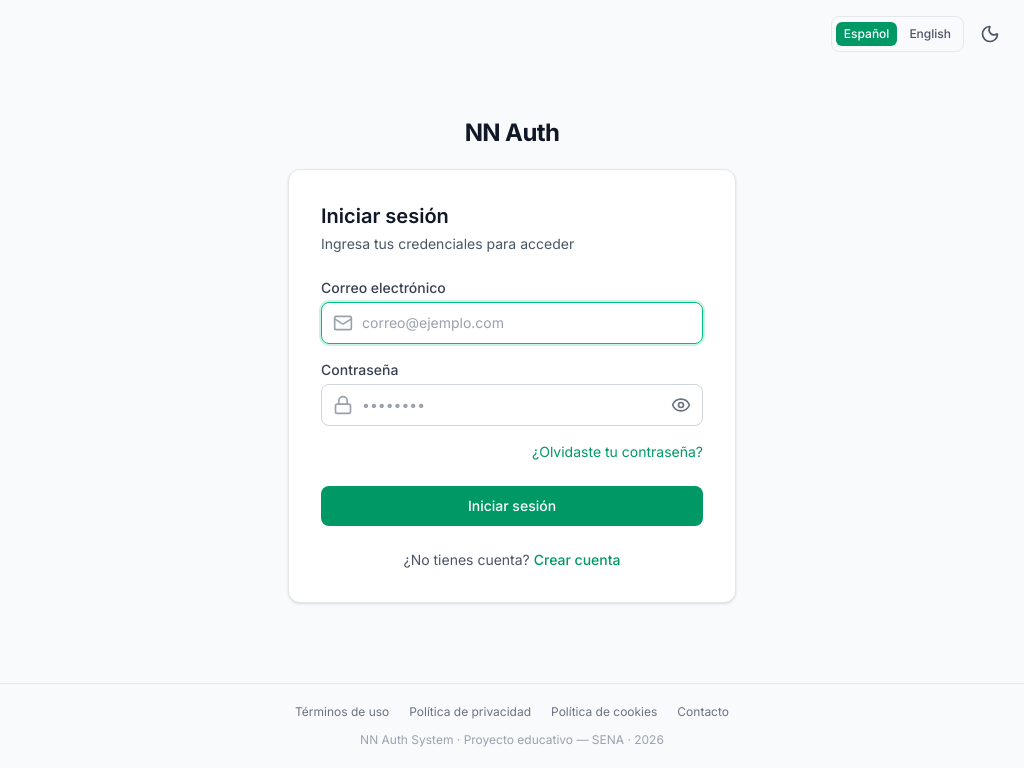
it: LoginPage › muestra alerta de error cuando login falla
The image size is (1024, 768).
Type "bad@email.com" into the field labelled "Correo electrónico". click: {"x": 512, "y": 322}
box: [321,302,703,344]
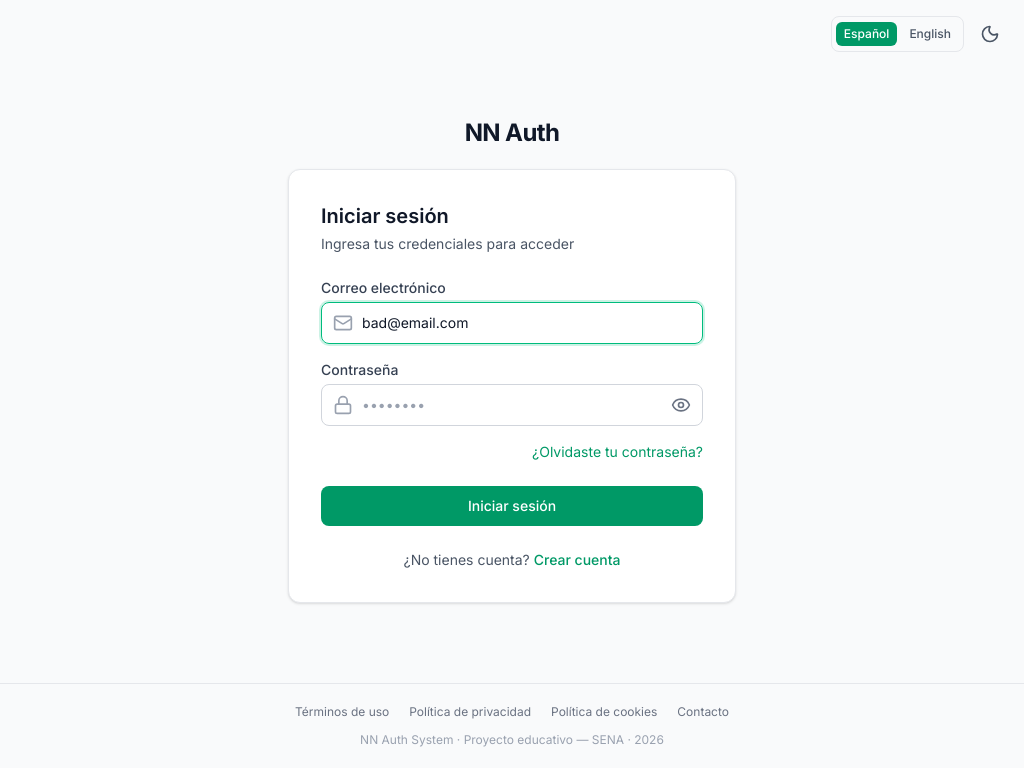
Type "wrongpass" into the password field labelled "Contraseña". click: {"x": 512, "y": 404}
box: [321,384,703,426]
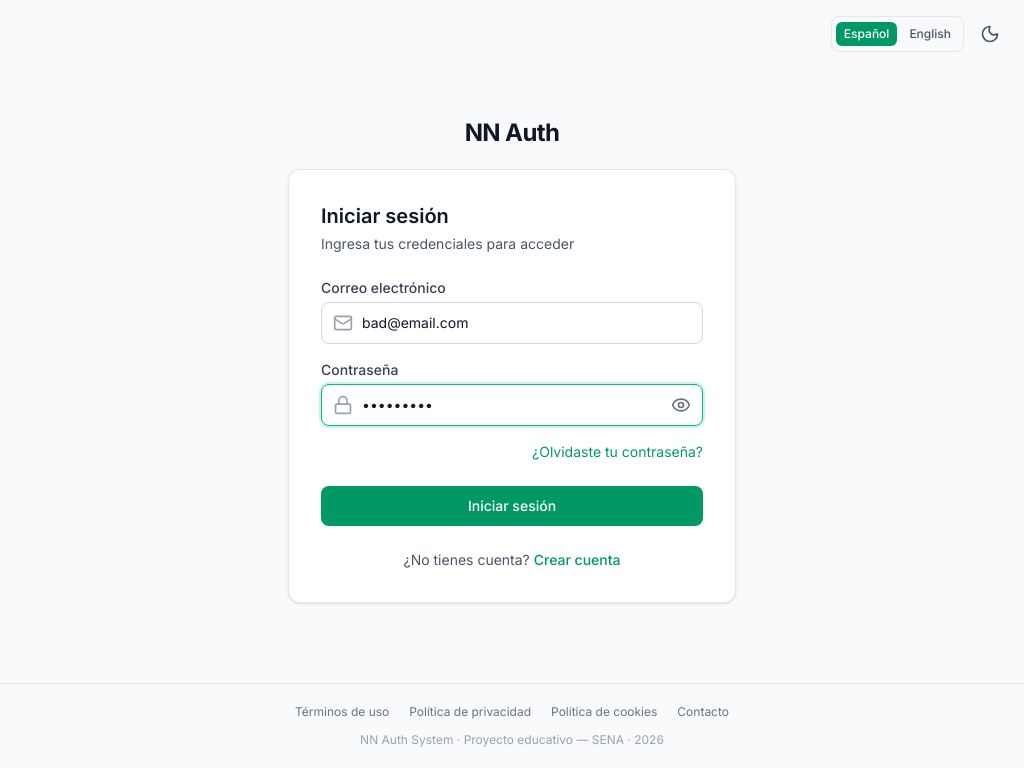
Click the button "Iniciar sesión". click: {"x": 512, "y": 506}
box: [321,486,703,526]
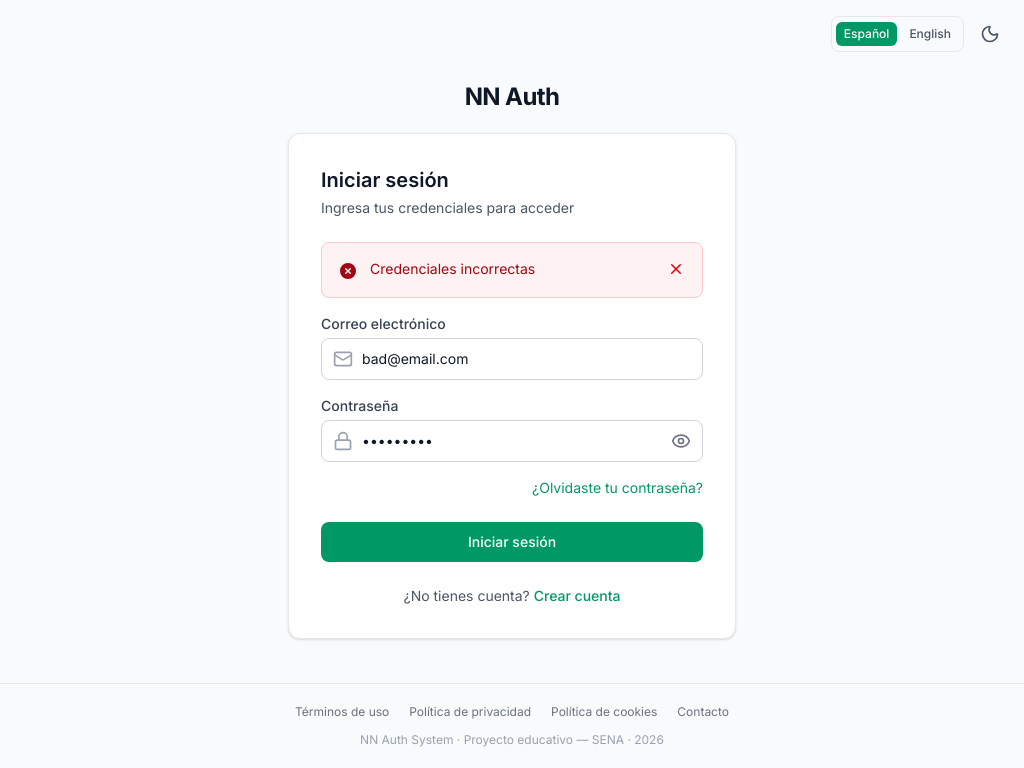
Check: the text "Credenciales incorrectas" is shown, box [370,260,535,276]
